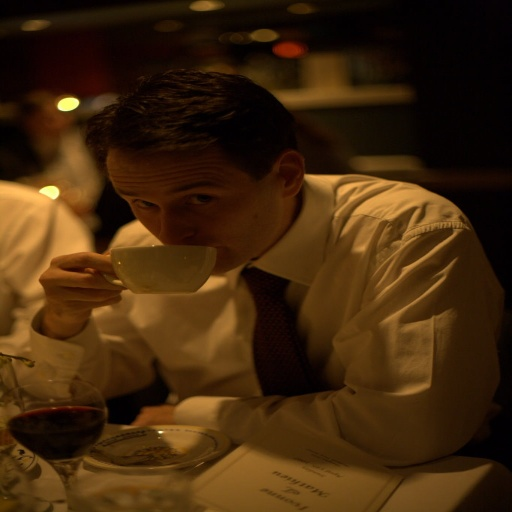hand: (30, 239, 122, 332), (128, 405, 176, 429)
